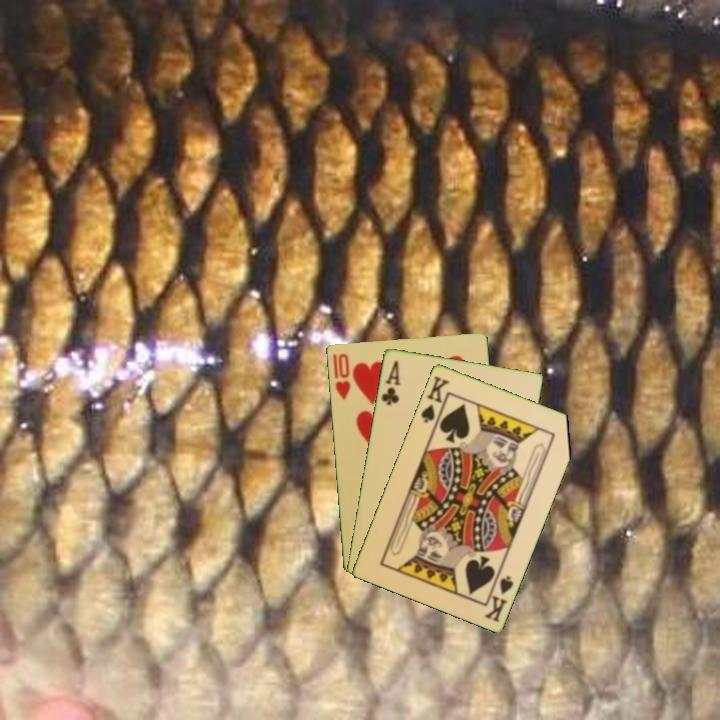10h: (329, 350, 353, 402)
Ac: (377, 356, 403, 408)
Ks: (481, 567, 516, 625), (417, 372, 452, 428)
